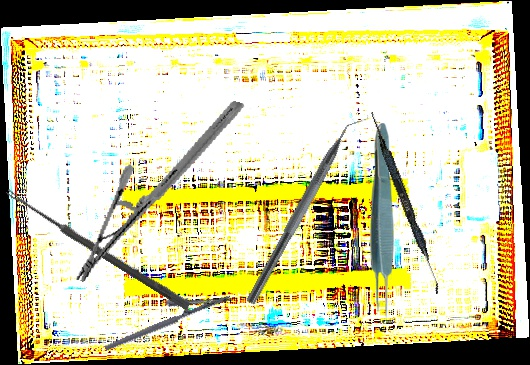Chopper: (245, 105, 372, 313)
Needle Holder: (72, 74, 246, 309), (97, 277, 232, 352)
Spatula Surgical: (364, 110, 447, 295)
Surgical Spoon: (3, 187, 192, 311)
Tissue Forceps: (369, 123, 394, 319)
